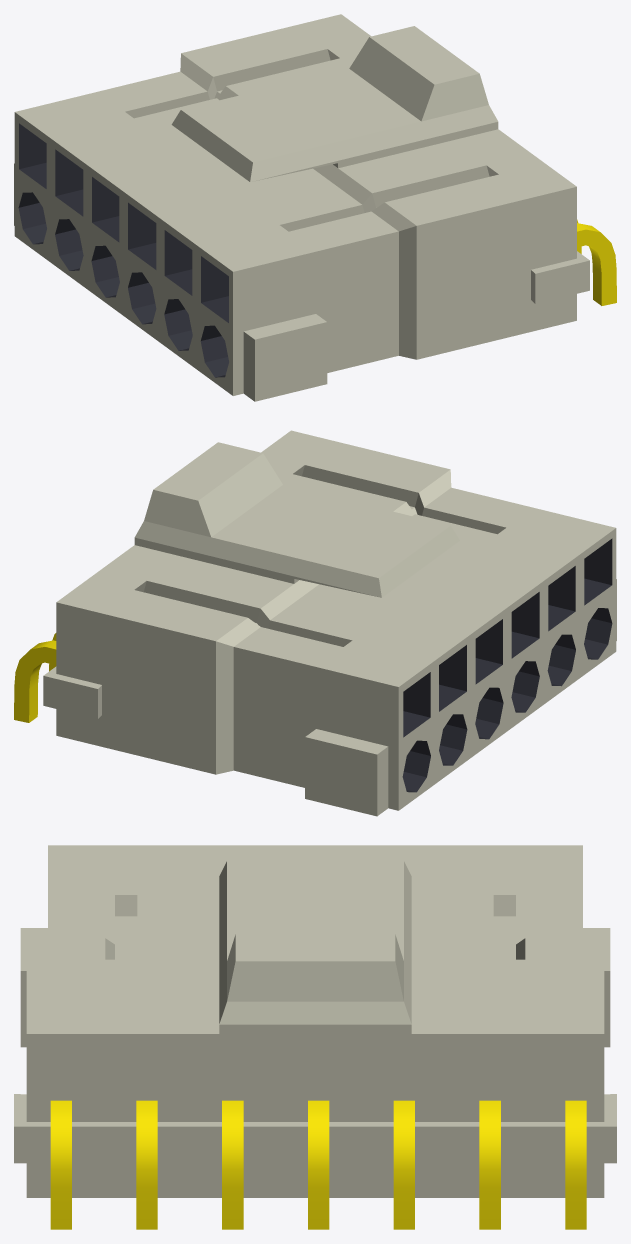
The model's file is PlugNode4_Start.fbx.
The picture shows the model from 3 angles, top to bottom: view 1: azimuth 30°, elevation 25°; view 2: azimuth 150°, elevation 25°; view 3: azimuth 270°, elevation 25°; orthographic projection. The views are drawn at different scales.
Parts seen in each view (by area): view 1: PlugNode4_Start; view 2: PlugNode4_Start; view 3: PlugNode4_Start.
Boxes of the visible parts, bbox=[...] form: PlugNode4_Start: bbox=[14, 14, 616, 401]; PlugNode4_Start: bbox=[14, 430, 616, 816]; PlugNode4_Start: bbox=[14, 845, 616, 1229].
Bounding box in the file's own units: 56.05 × 26.31 × 62.11.
